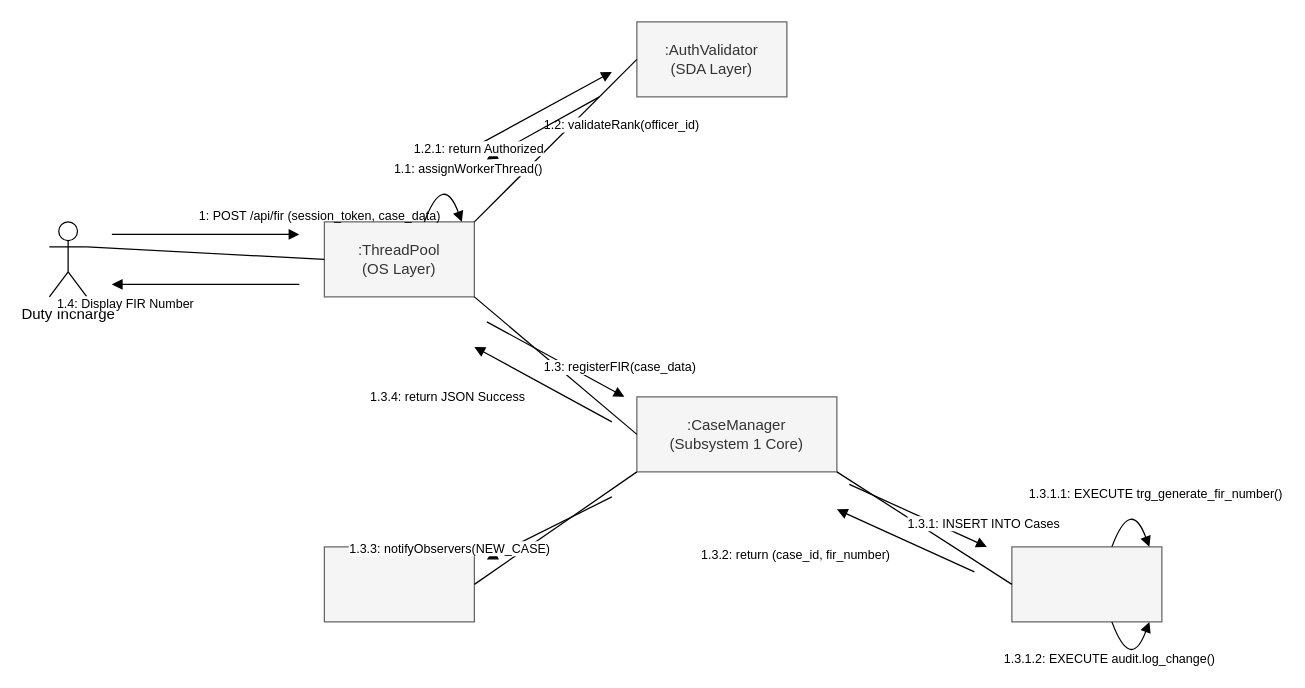
This 1305x688 diagram has some shape labels left out. Each missing label, with the centre of its shape:
":ObserverBus (AI Trigger)" belongs at point (398, 584).
":PostgreSQL (DBMS Layer)" belongs at point (1086, 584).
